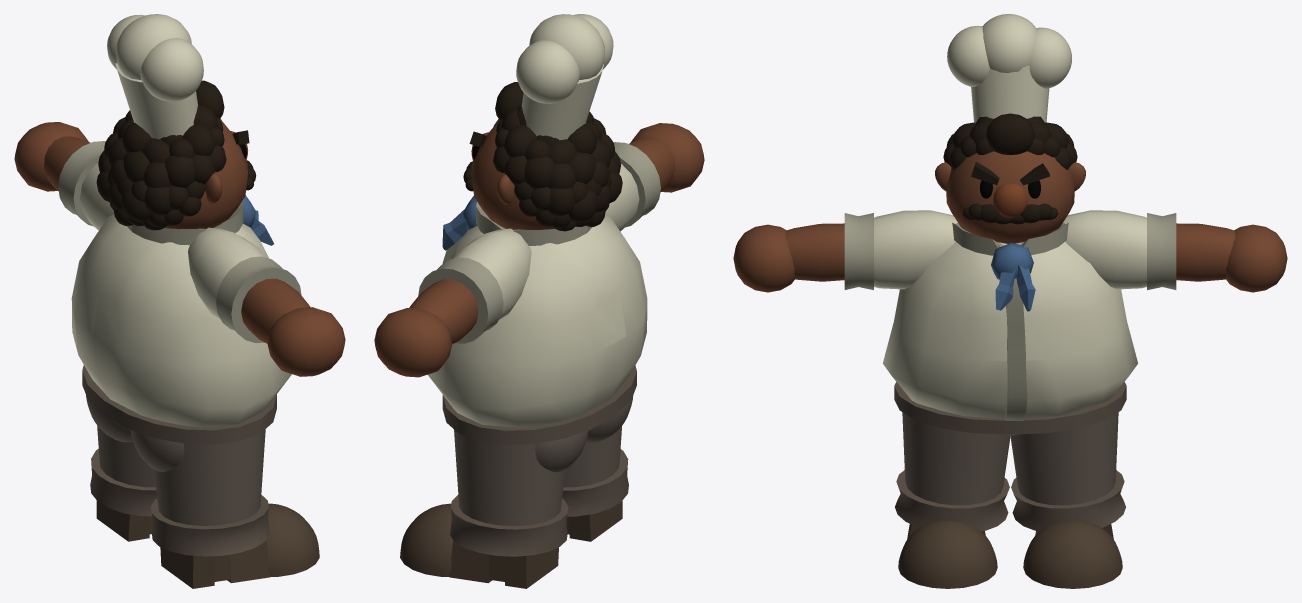
Rendered from CHEF MODEL.fbx.
3 views of the same model, side by side, from view 1: azimuth 30°, elevation 25°; view 2: azimuth 150°, elevation 25°; view 3: azimuth 270°, elevation 25° (orthographic). The views are drawn at different scales.
Visible parts, largest first — view 1: polySurface2, pCube49, pCylinder3, pCylinder8, pCube50, pCube7, pCylinder4, pCylinder1, pCube3, pCylinder5, pCube4, pCube1 (+2 smaller); view 2: polySurface2, pCube49, pCylinder3, pCylinder8, pCube50, pCube7, pCylinder4, pCylinder1, pCube3, pCylinder5, pCube4, pCube1 (+3 smaller); view 3: polySurface2, pCylinder3, pCube50, pCube3, pCylinder8, pCube7, pCube1, pCube4, pCylinder4, pCube49, pCylinder1, pCylinder5 (+4 smaller).
Boxes of the visible parts, <box> form: polySurface2: <box>71,214,291,427</box>; pCube49: <box>96,80,226,230</box>; pCylinder3: <box>97,425,265,525</box>; pCylinder8: <box>107,14,203,139</box>; pCube50: <box>96,500,319,588</box>; pCube7: <box>14,122,345,376</box>; pCylinder4: <box>90,449,269,556</box>; pCylinder1: <box>58,141,301,342</box>; pCube3: <box>79,163,265,318</box>; pCylinder5: <box>82,365,276,444</box>; pCube4: <box>44,136,310,343</box>; pCube1: <box>164,119,247,229</box>; polySurface2: <box>428,215,647,427</box>; pCube49: <box>493,82,622,231</box>; pCylinder3: <box>454,425,622,526</box>; pCylinder8: <box>516,14,613,140</box>; pCube50: <box>400,501,622,588</box>; pCube7: <box>374,123,704,377</box>; pCylinder4: <box>450,449,628,556</box>; pCylinder1: <box>418,142,660,343</box>; pCube3: <box>454,164,639,319</box>; pCylinder5: <box>442,365,636,444</box>; pCube4: <box>409,137,675,344</box>; pCube1: <box>471,120,554,229</box>; polySurface2: <box>883,242,1137,435</box>; pCylinder3: <box>902,412,1118,505</box>; pCube50: <box>898,512,1122,588</box>; pCube3: <box>874,210,1146,289</box>; pCylinder8: <box>947,14,1071,123</box>; pCube7: <box>733,224,1287,292</box>; pCube1: <box>946,151,1074,243</box>; pCube4: <box>785,223,1235,281</box>; pCylinder4: <box>895,470,1125,531</box>; pCube49: <box>943,113,1077,169</box>; pCylinder1: <box>844,213,1176,290</box>; pCylinder5: <box>894,382,1126,434</box>.
Size of the model in its own units: 3.78 by 10.29 by 10.09.
